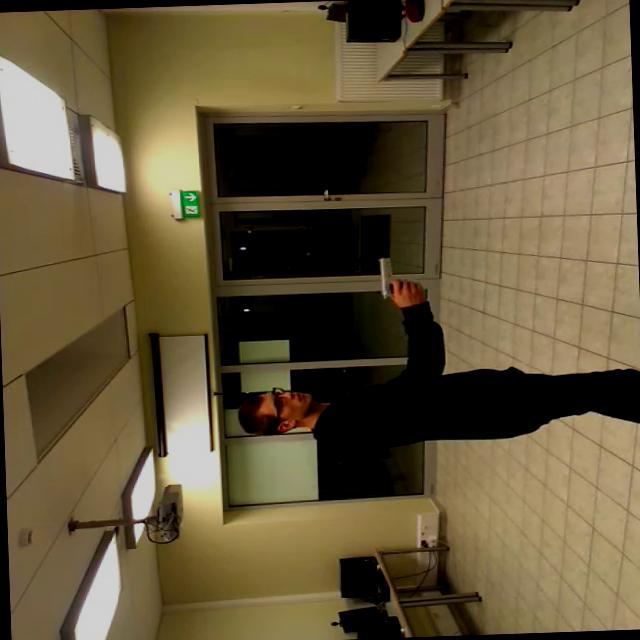handgun: (371, 250, 419, 304)
